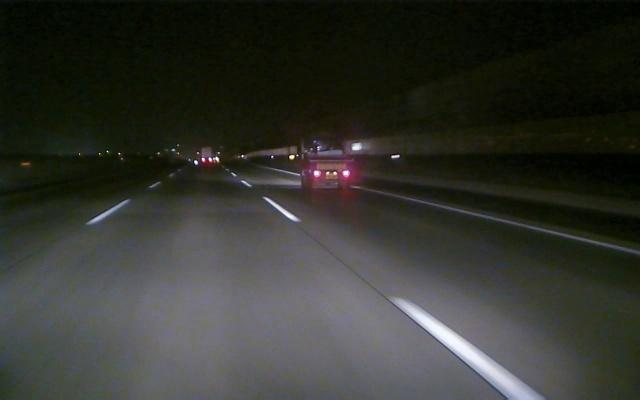lane: (241, 178, 550, 400), (360, 188, 637, 256), (84, 181, 163, 228)
